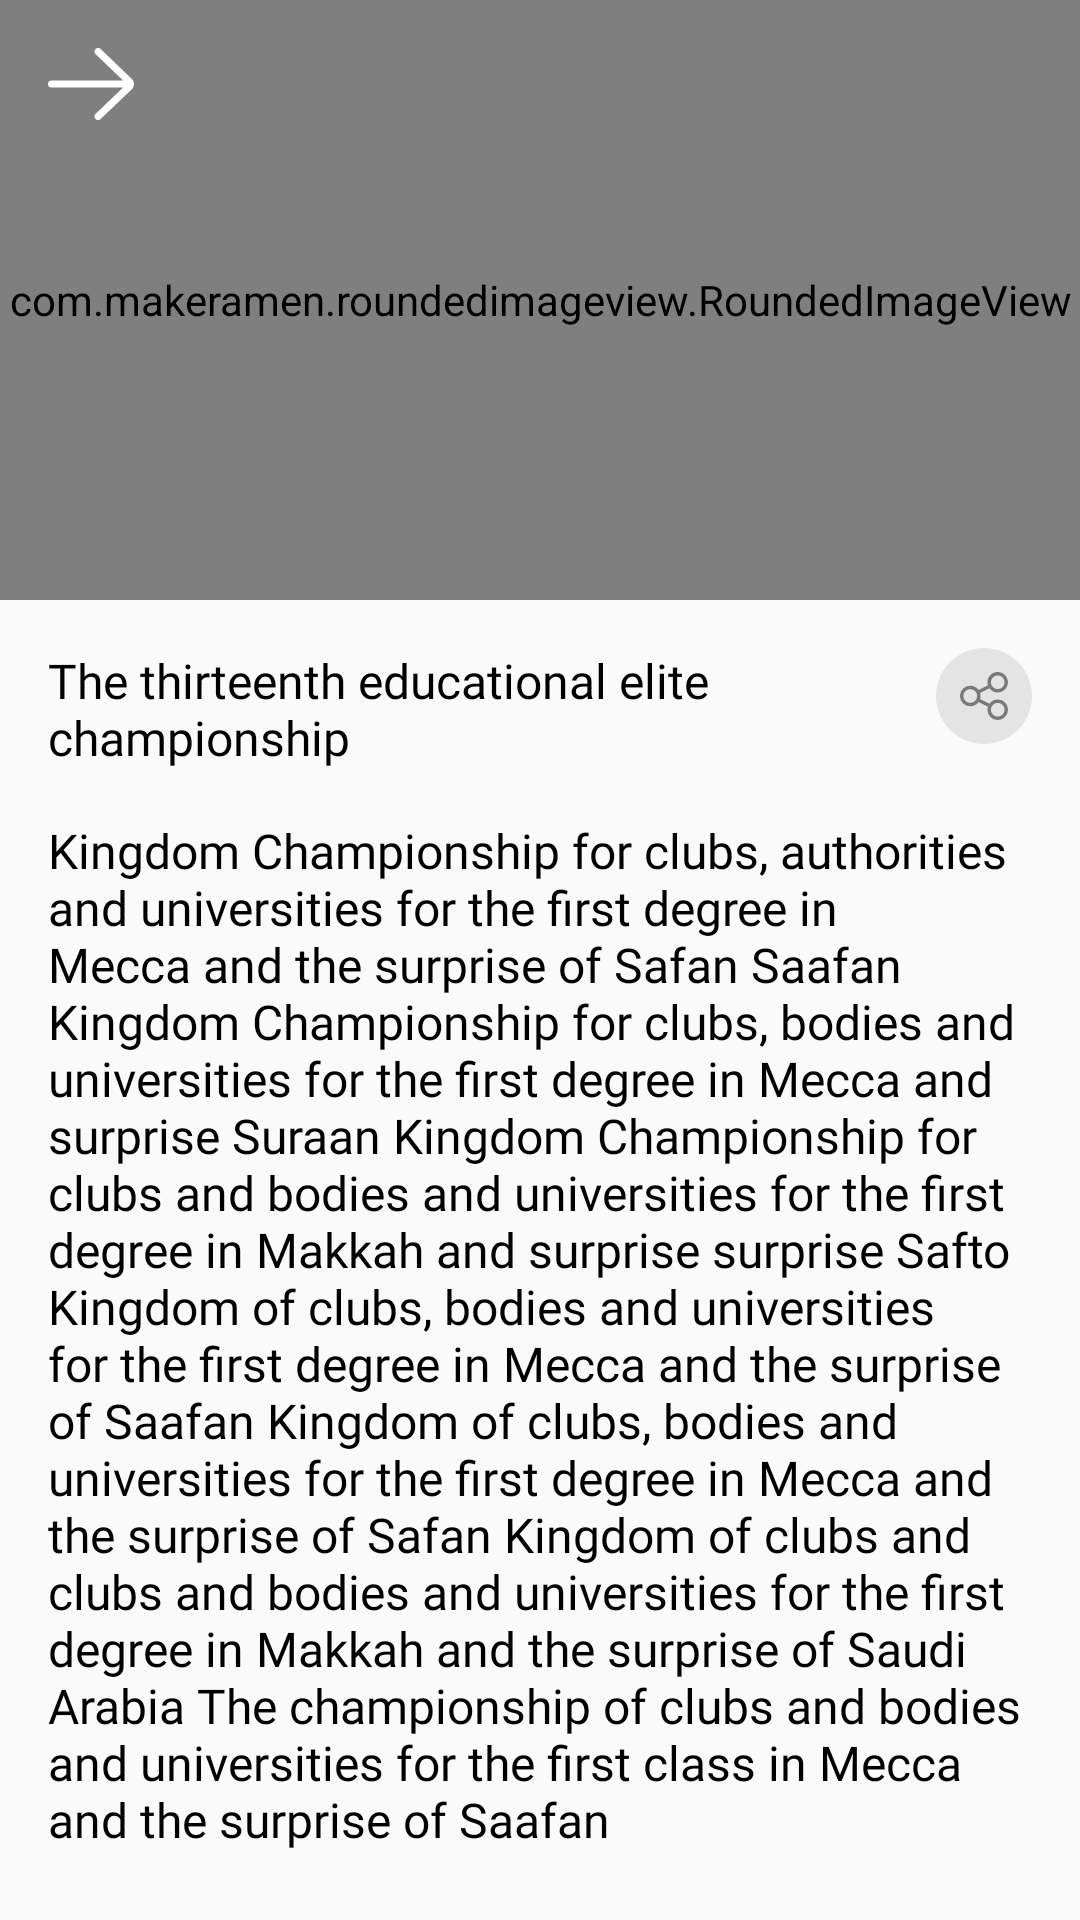

Icon click points for this 1080px x 1920px phone screenshot, format (x,y):
share: (984,696)
